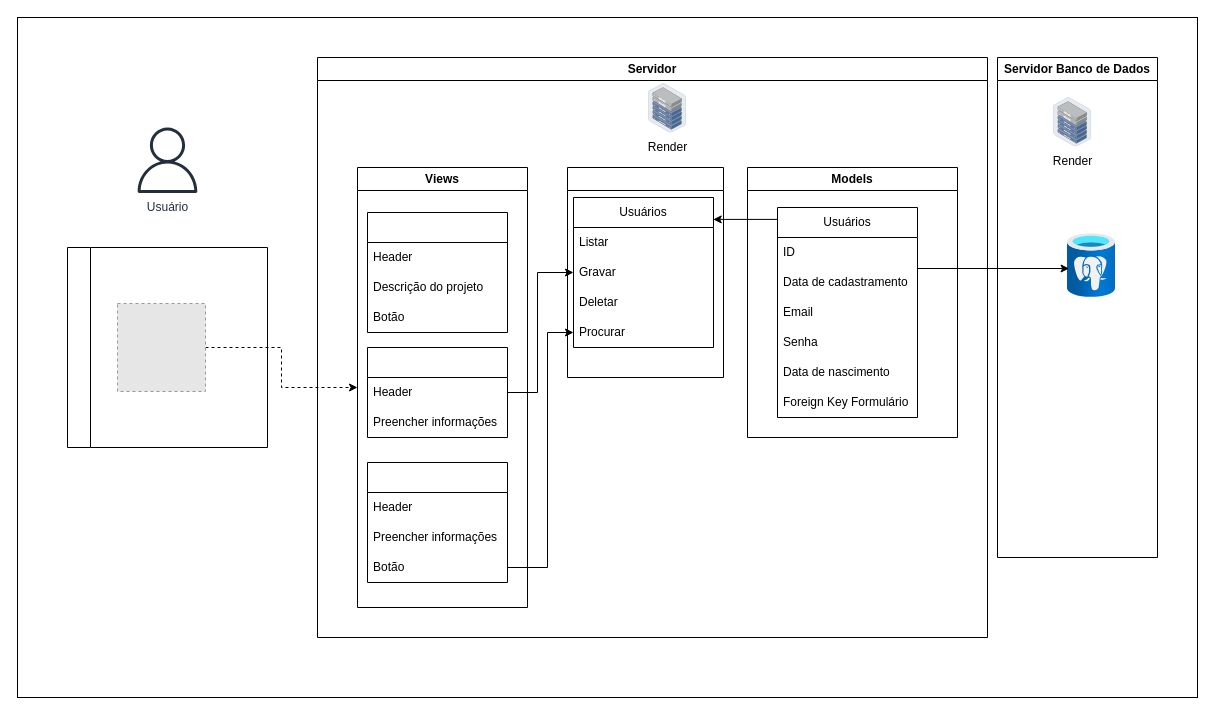
Some shapes in this 1215 by 715 pixel diagram are drawn without their labels. Grey dashed boxes stand in for pictures. The shapes that lost their labels are listed below. From the top down, each one's box as (x1, y1, x2, y2) in pixels, then its label:
(366, 212, 508, 332): Homepage
(566, 166, 724, 378): Controllers
(66, 246, 268, 448): Cliente
(366, 346, 508, 438): Cadastrar-se
(366, 462, 508, 582): Login
